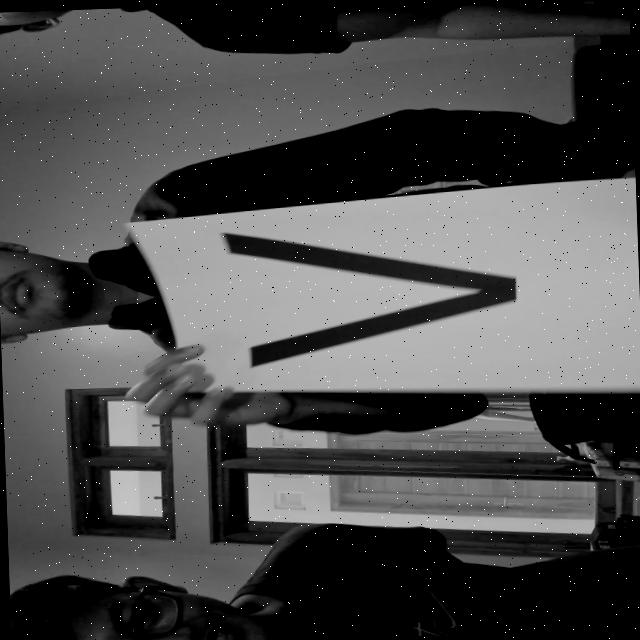v: (208, 212, 537, 374)
